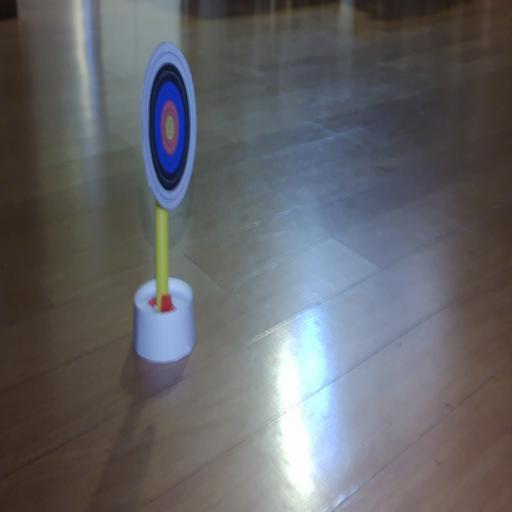target: (141, 43, 197, 210)
